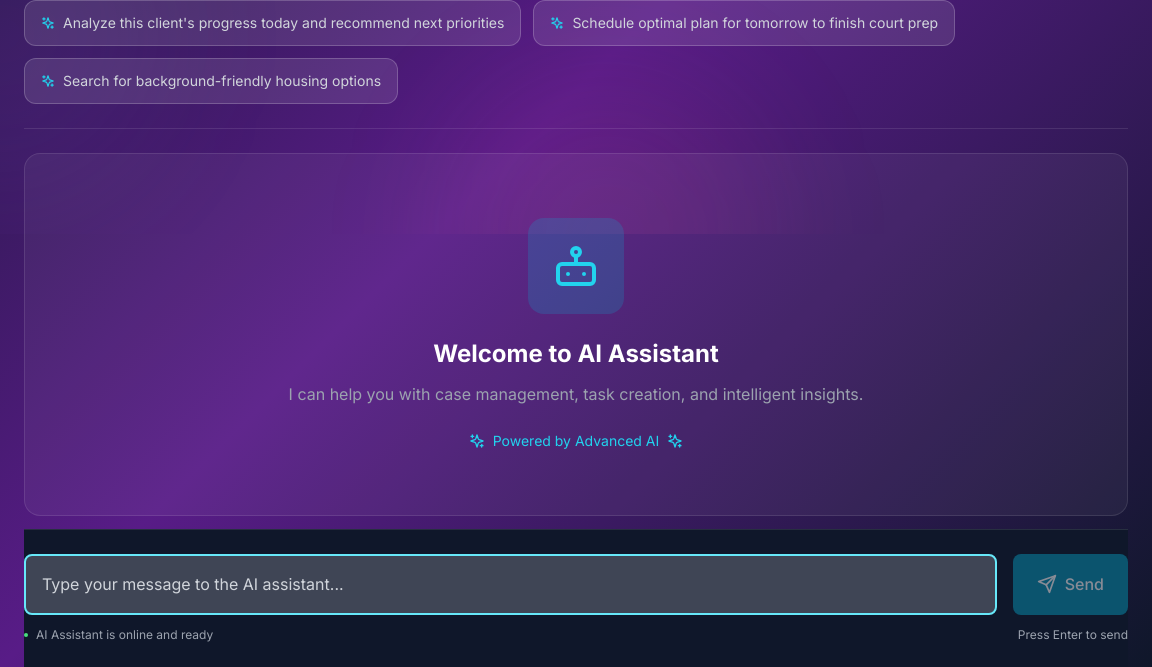
Test case: AIChat › stops loading and shows a friendly error when the response body never completes
(page scrolled)
Type "What overdue reminders do I have?" into the field with placeholder "Type your message to the AI assistant..." at [510, 584], box [24,554,997,615]
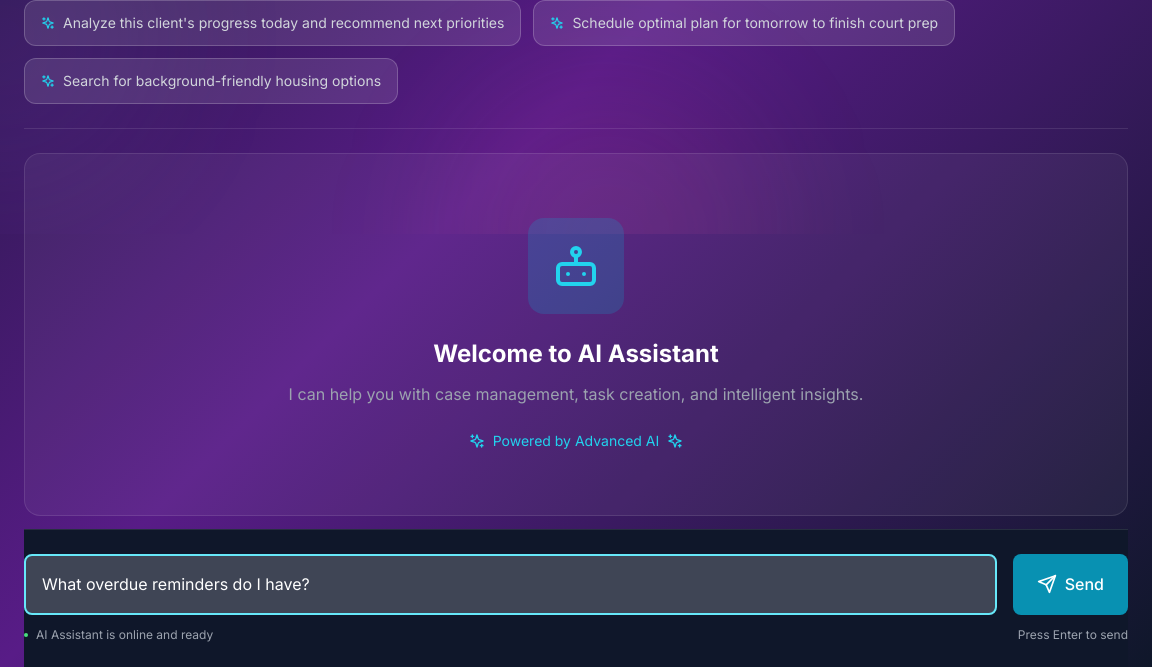
Click the button "Send" at [1070, 584], box [1013,554,1128,615]
Wait 20000 ms
(page scrolled)
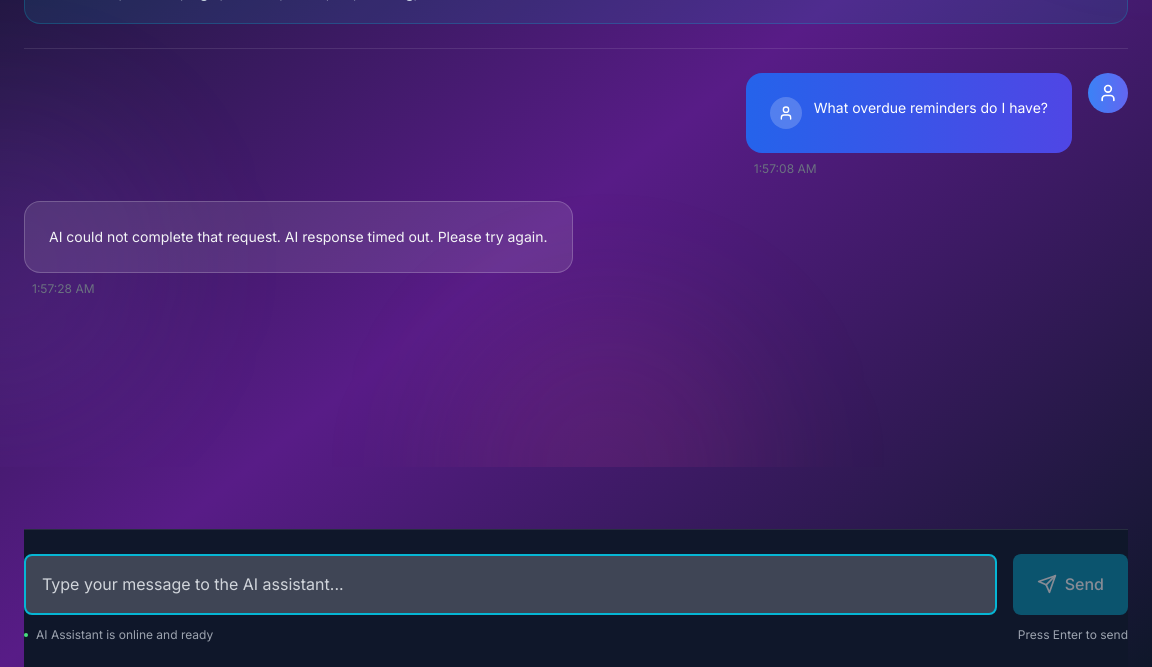
Check: the field with placeholder "Type your message to the AI assistant..." is enabled, box [24,554,997,615]
Check: the text "AI response timed out" is shown, box [49,228,548,245]
